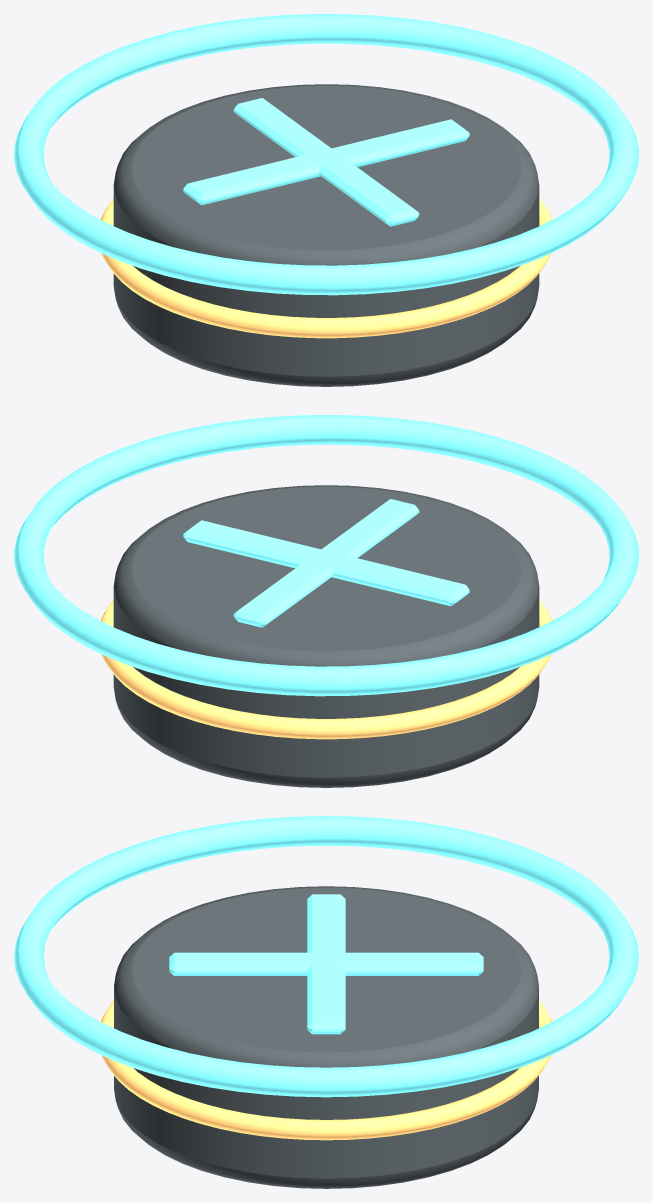
The model's file is control_handle_linear.glb.
3 renders of one model, top to bottom at view 1: azimuth 30°, elevation 25°; view 2: azimuth 150°, elevation 25°; view 3: azimuth 270°, elevation 25°, orthographic.
Parts seen in each view (by area): view 1: role__control_handle_linear__body_lod0, socket__control_handle_linear__focus_ring_0_14m, role__control_handle_linear__grip_groove_lod0, role__control_handle_linear__axis_alignment_inset_x_lod0, role__control_handle_linear__axis_alignment_inset_y_lod0; view 2: role__control_handle_linear__body_lod0, socket__control_handle_linear__focus_ring_0_14m, role__control_handle_linear__grip_groove_lod0, role__control_handle_linear__axis_alignment_inset_x_lod0, role__control_handle_linear__axis_alignment_inset_y_lod0; view 3: role__control_handle_linear__body_lod0, socket__control_handle_linear__focus_ring_0_14m, role__control_handle_linear__grip_groove_lod0, role__control_handle_linear__axis_alignment_inset_y_lod0, role__control_handle_linear__axis_alignment_inset_x_lod0.
Boxes of the visible parts, x1,y1,x2,y2 form: role__control_handle_linear__body_lod0: (113,84,539,386); socket__control_handle_linear__focus_ring_0_14m: (14,14,638,295); role__control_handle_linear__grip_groove_lod0: (100,198,552,338); role__control_handle_linear__axis_alignment_inset_x_lod0: (183,119,469,205); role__control_handle_linear__axis_alignment_inset_y_lod0: (233,98,419,226); role__control_handle_linear__body_lod0: (113,485,539,787); socket__control_handle_linear__focus_ring_0_14m: (14,415,638,696); role__control_handle_linear__grip_groove_lod0: (100,599,552,739); role__control_handle_linear__axis_alignment_inset_x_lod0: (183,520,469,606); role__control_handle_linear__axis_alignment_inset_y_lod0: (233,499,419,627); role__control_handle_linear__body_lod0: (114,886,538,1188); socket__control_handle_linear__focus_ring_0_14m: (14,816,638,1097); role__control_handle_linear__grip_groove_lod0: (100,1000,552,1140); role__control_handle_linear__axis_alignment_inset_y_lod0: (169,952,483,975); role__control_handle_linear__axis_alignment_inset_x_lod0: (307,894,345,1034).
Size of what is drawn, in the model's own units: 0.147 by 0.0415 by 0.147.
